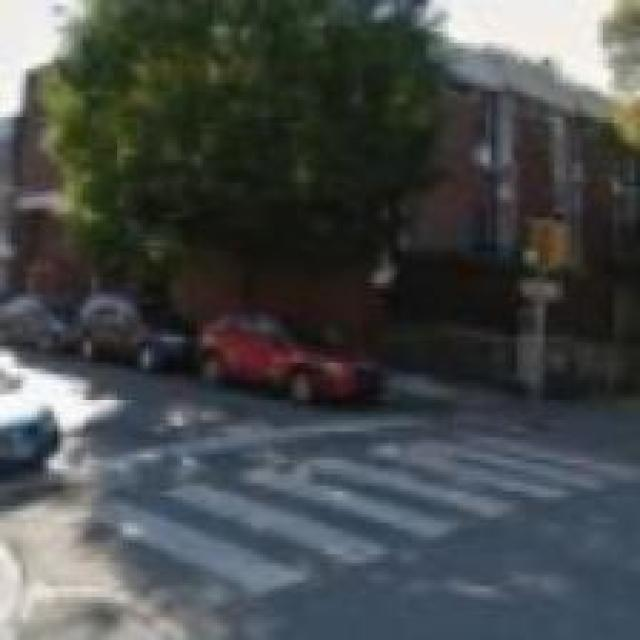walk-crossing: (91, 419, 640, 594)
